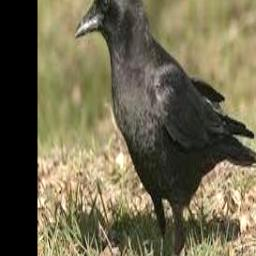Crow: (75, 0, 256, 256)
